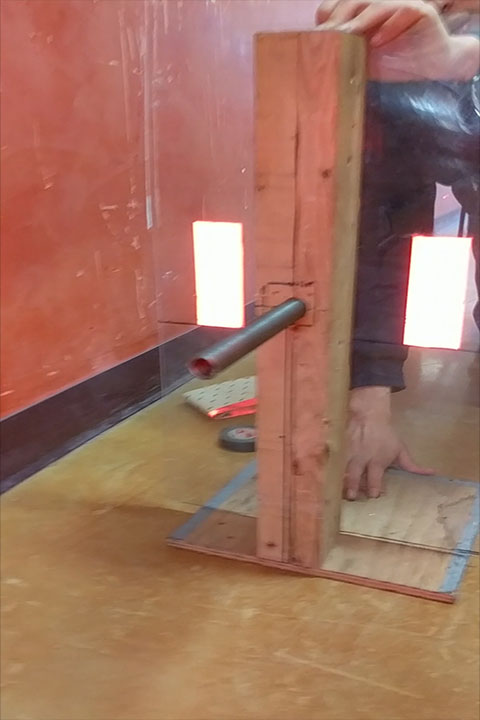gear: (402, 234, 473, 351), (191, 220, 244, 328)
